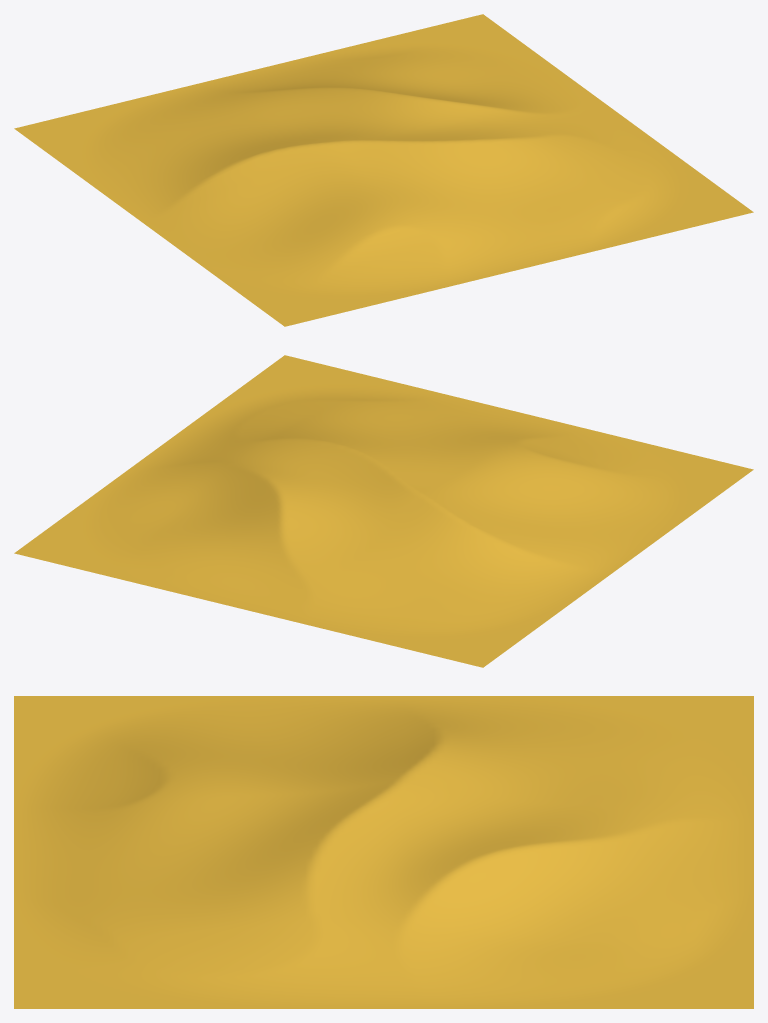
Rendered from LANDSCAPE02.fbx.
3 views of the same model, one above another, from view 1: azimuth 30°, elevation 25°; view 2: azimuth 150°, elevation 25°; view 3: azimuth 270°, elevation 25° (orthographic). The views are drawn at different scales.
Visible parts, largest first — view 1: Landscape02; view 2: Landscape02; view 3: Landscape02.
Boxes of the visible parts, bbox=[...] form: Landscape02: bbox=[14, 14, 753, 326]; Landscape02: bbox=[14, 355, 753, 667]; Landscape02: bbox=[14, 696, 753, 1008].
Bounding box in the file's own units: 2033 × 141 × 2033.
